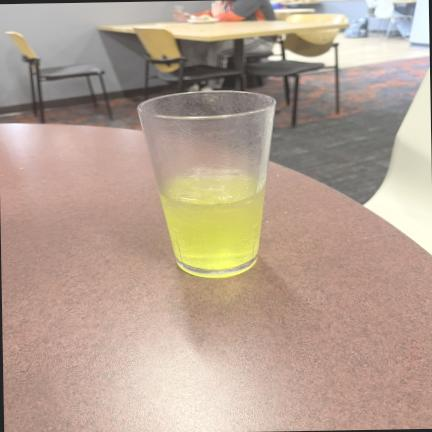container: (137, 91, 275, 278)
fluid: (160, 185, 264, 271)
fluid-surface: (160, 176, 265, 202)
